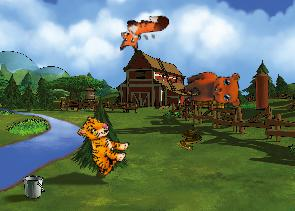bear: (180, 65, 245, 117)
fox: (116, 13, 171, 54)
tiger: (66, 112, 135, 179)
